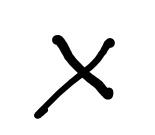mult: (34, 34, 114, 116)
